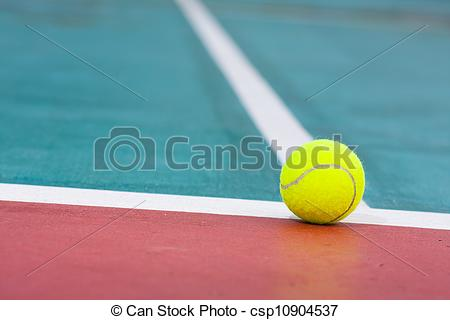tennis_ball: (279, 136, 367, 226)
